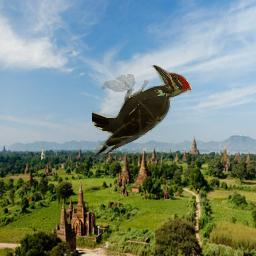Woodpecker: (92, 65, 192, 157)
